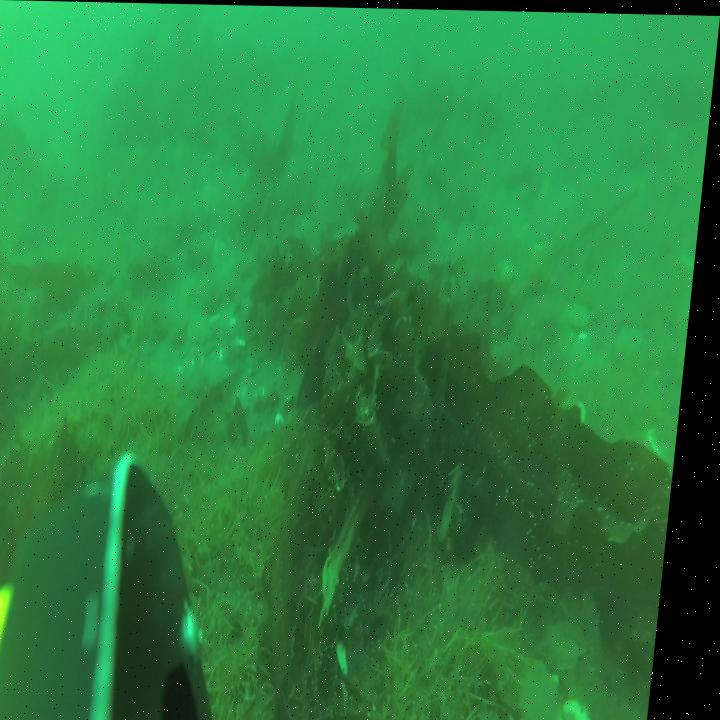scallop: (527, 643, 585, 720), (555, 606, 607, 671), (192, 304, 224, 347), (570, 292, 603, 331), (623, 317, 654, 350)
